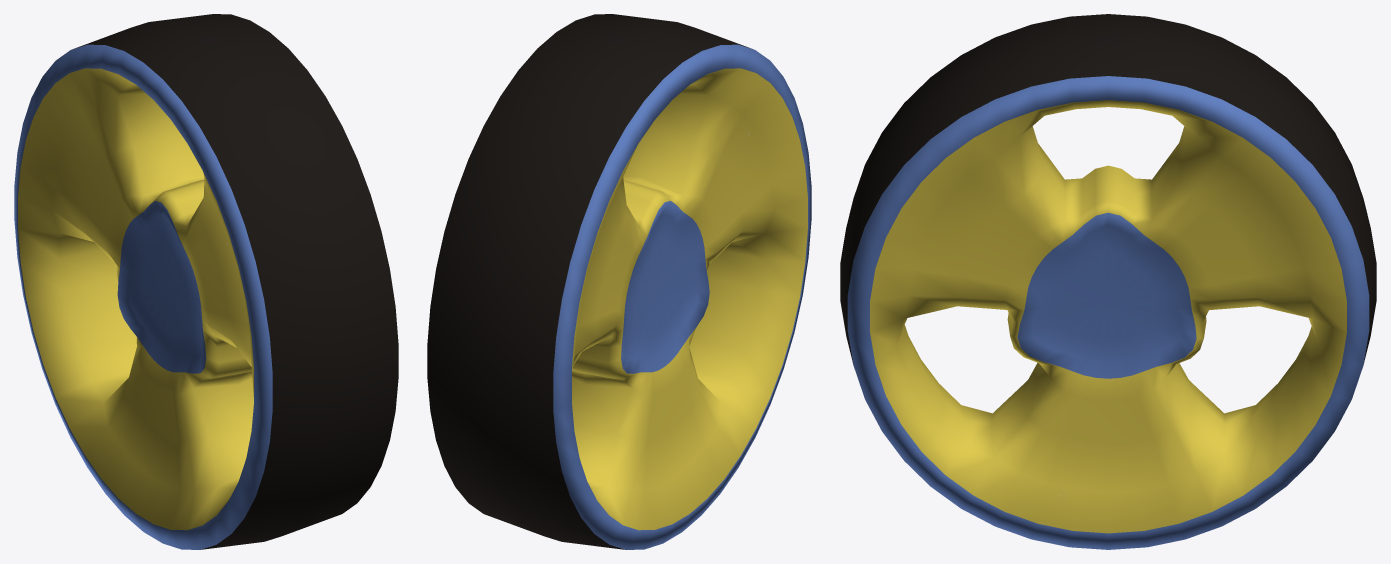
The model's file is Rueda_Espadachin.fbx.
3 renders of one model, left to right at view 1: azimuth 30°, elevation 25°; view 2: azimuth 150°, elevation 25°; view 3: azimuth 270°, elevation 25°, orthographic.
Visible parts, largest first — view 1: polySurface21; view 2: polySurface21; view 3: polySurface21.
Boxes of the visible parts, <box> form: polySurface21: <box>14,14,398,549</box>; polySurface21: <box>427,14,811,549</box>; polySurface21: <box>840,14,1376,549</box>.
Size of the model in its own units: 46.02 by 151 by 150.
1 material, 1 textured.
